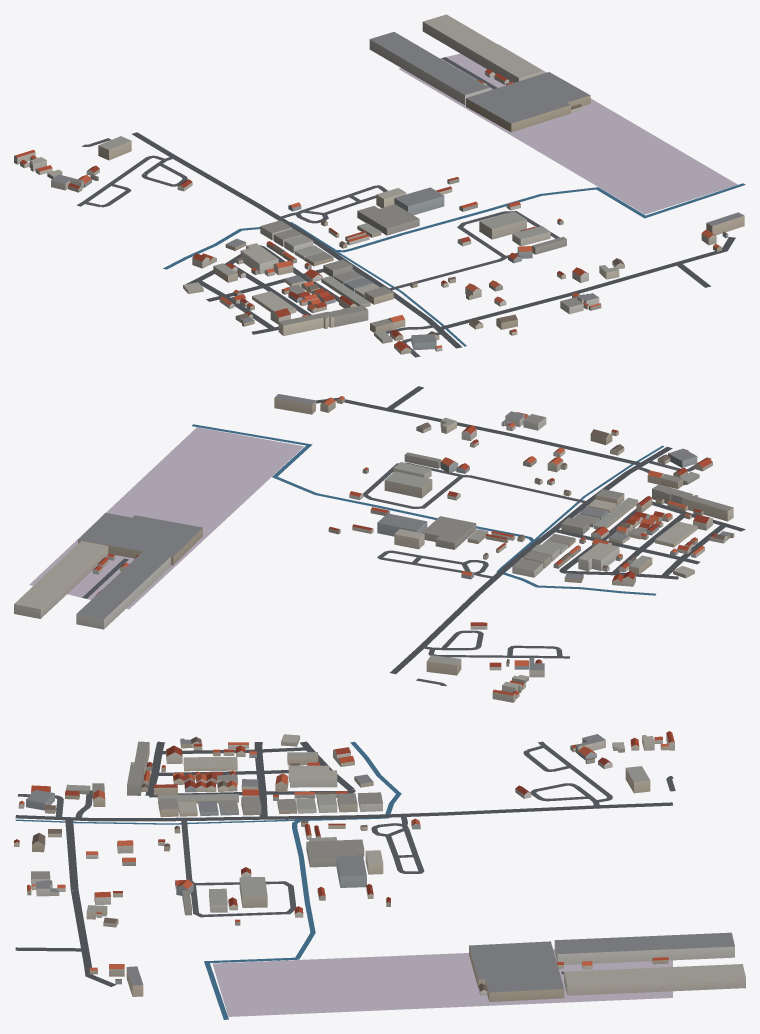
3 renders of one model, top to bottom at view 1: azimuth 30°, elevation 25°; view 2: azimuth 150°, elevation 25°; view 3: azimuth 270°, elevation 25°, orthographic. The views are drawn at different scales.
Visible parts, largest first — view 1: buildings_roofs, buildings_walls, landuse, roads, water; view 2: buildings_roofs, buildings_walls, landuse, roads, water; view 3: buildings_roofs, buildings_walls, landuse, roads, water.
Part boxes in pixels (box(x1,y1,x2,y2)): buildings_roofs: box(16, 14, 743, 350); buildings_walls: box(14, 22, 744, 354); landuse: box(398, 44, 737, 214); roads: box(76, 57, 735, 357); water: box(163, 183, 745, 346); buildings_roofs: box(14, 394, 733, 695); buildings_walls: box(14, 397, 734, 702); landuse: box(29, 427, 303, 609); roads: box(82, 386, 745, 686); water: box(192, 424, 664, 595); buildings_roofs: box(14, 731, 745, 992); buildings_walls: box(14, 734, 745, 1001); landuse: box(212, 949, 672, 1016); roads: box(15, 741, 675, 986); water: box(15, 741, 401, 1019).
Bounding box in the file's own units: 508 × 9.86 × 557.
